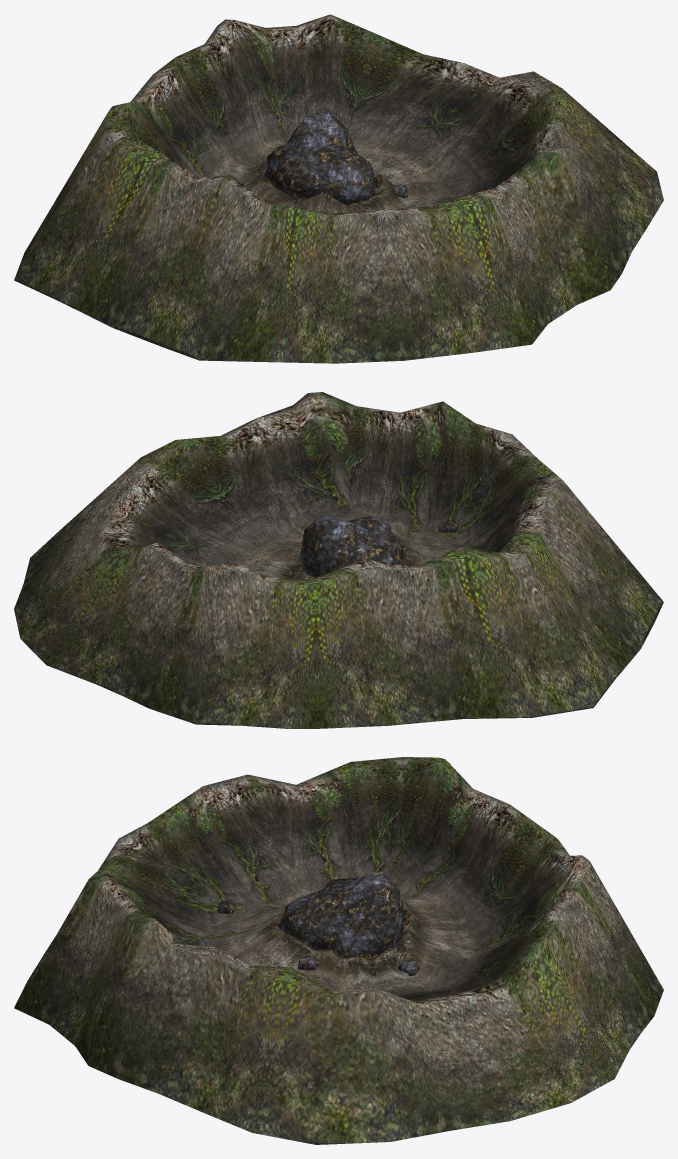
Rendered from bigmap_yunshikeng.FBX.
The picture shows the model from 3 angles, top to bottom: view 1: azimuth 30°, elevation 25°; view 2: azimuth 150°, elevation 25°; view 3: azimuth 270°, elevation 25°; orthographic projection. The views are drawn at different scales.
Parts seen in each view (by area): view 1: WDshangguyuntie00, WDshangguyuntie01; view 2: WDshangguyuntie00, WDshangguyuntie01; view 3: WDshangguyuntie00, WDshangguyuntie01.
Boxes of the visible parts, x1,y1,x2,y2 form: WDshangguyuntie00: (14, 14, 663, 363); WDshangguyuntie01: (263, 110, 410, 205); WDshangguyuntie00: (14, 392, 663, 728); WDshangguyuntie01: (228, 515, 457, 577); WDshangguyuntie00: (14, 757, 663, 1144); WDshangguyuntie01: (217, 871, 419, 992).
Bounding box in the file's own units: 9.09 × 8.33 × 2.05.
